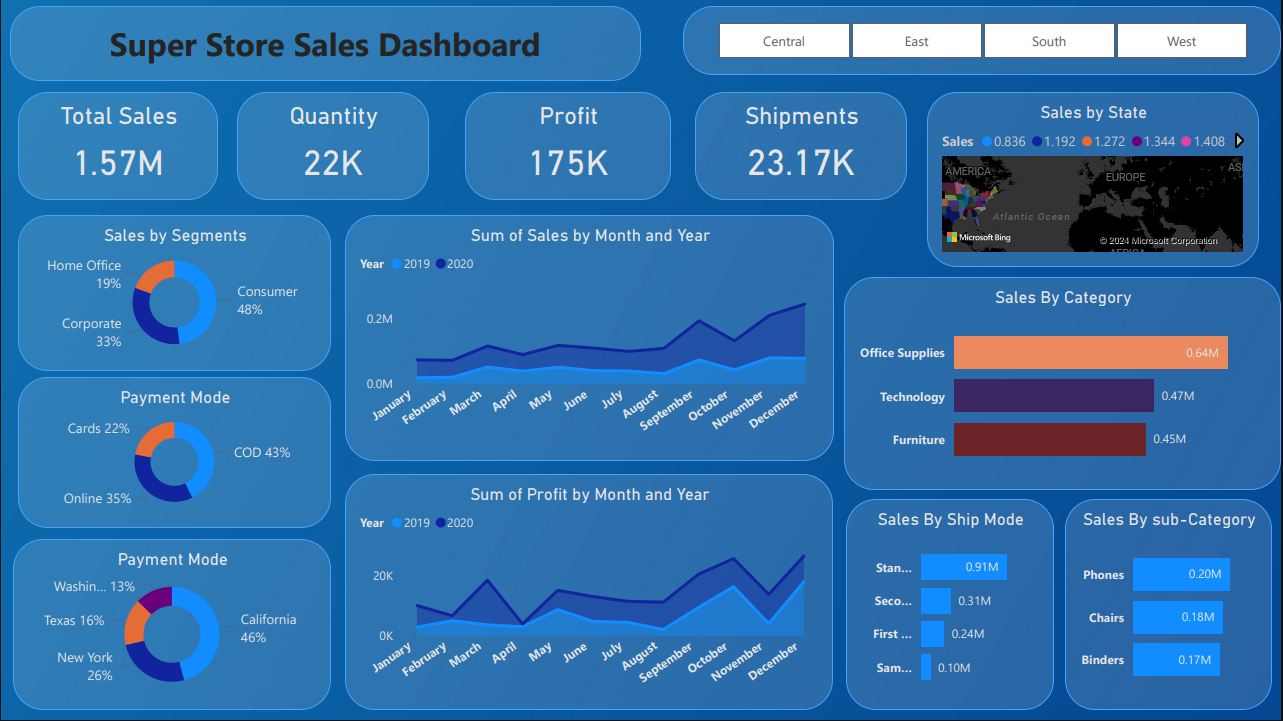

This screenshot's page, from the dashboard's own definition file:
{"tool":"powerbi","page":{"name":"Duplicates","canvas":[1280,720],"ordinal":0},"visuals":[{"type":"clusteredBarChart","title":"Sales By Category","fields":{"Category":["SuperStore_Sales_Dataset.Category"],"Y":["Sum(SuperStore_Sales_Dataset.Sales)"]},"box":[842.9,277.3,436.8,212.3],"z":0},{"type":"clusteredBarChart","title":"Sales By sub-Category","fields":{"Y":["Sum(SuperStore_Sales_Dataset.Sales)"],"Category":["SuperStore_Sales_Dataset.Sub-Category"]},"box":[1063.8,499.4,207.4,211],"z":1000},{"type":"clusteredBarChart","title":"Sales By Ship Mode","fields":{"Y":["Sum(SuperStore_Sales_Dataset.Sales)"],"Category":["SuperStore_Sales_Dataset.Ship Mode"]},"box":[845.4,499.4,207.4,211],"z":2000},{"type":"stackedAreaChart","fields":{"Y":["Sum(SuperStore_Sales_Dataset.Sales)"],"Category":["SuperStore_Sales_Dataset.Order Date.Variation.Date Hierarchy.Month","SuperStore_Sales_Dataset.Order Date.Variation.Date Hierarchy.Day"],"Series":["SuperStore_Sales_Dataset.Order Date.Variation.Date Hierarchy.Year"]},"box":[343.6,214.7,489.6,246.6],"z":3000},{"type":"stackedAreaChart","fields":{"Category":["SuperStore_Sales_Dataset.Order Date.Variation.Date Hierarchy.Month","SuperStore_Sales_Dataset.Order Date.Variation.Date Hierarchy.Day"],"Series":["SuperStore_Sales_Dataset.Order Date.Variation.Date Hierarchy.Year"],"Y":["Sum(SuperStore_Sales_Dataset.Profit)"]},"box":[343.6,473.6,488.3,236.8],"z":4000},{"type":"filledMap","title":"Sales by State","fields":{"Category":["SuperStore_Sales_Dataset.State"],"Series":["SuperStore_Sales_Dataset.Sales"]},"box":[926.4,92,331.3,175.5],"z":5000},{"type":"donutChart","title":"Sales by Segments","fields":{"Category":["SuperStore_Sales_Dataset.Segment"],"Y":["Sum(SuperStore_Sales_Dataset.Sales)"]},"box":[17.2,214.7,312.9,155.8],"z":5001},{"type":"donutChart","title":"Payment Mode","fields":{"Category":["SuperStore_Sales_Dataset.Payment Mode"],"Y":["Sum(SuperStore_Sales_Dataset.Sales)"]},"box":[17.2,376.7,312.9,150.9],"z":5002},{"type":"slicer","fields":{"Values":["SuperStore_Sales_Dataset.Region"]},"box":[682.2,6.1,597.5,68.7],"z":5003},{"type":"textbox","box":[8.6,6.1,631.9,74.8],"z":5004},{"type":"card","title":"Total Sales","fields":{"Values":["Sum(SuperStore_Sales_Dataset.Sales)"]},"box":[17.2,92,200,108],"z":5005},{"type":"card","title":"Quantity","fields":{"Values":["Sum(SuperStore_Sales_Dataset.Quantity)"]},"box":[235.6,92,192.6,108],"z":5006},{"type":"card","title":"Profit","fields":{"Values":["Sum(SuperStore_Sales_Dataset.Profit)"]},"box":[463.8,92,206.1,108],"z":5007},{"type":"card","title":"Shipments","fields":{"Values":["Sum(SuperStore_Sales_Dataset.AvgDelivery)"]},"box":[694.5,92,211,108],"z":5008},{"type":"donutChart","title":"Payment Mode","fields":{"Y":["Sum(SuperStore_Sales_Dataset.Sales)"],"Category":["SuperStore_Sales_Dataset.State"]},"box":[12.3,538.7,317.8,171.8],"z":5009}]}

Visuals, with their boxes in screenshot pixels (x1, y1, x2, y2), scaled from the page's 1280x720 canvas onto the 1283x721 screenshot:
"Sales By Category" clusteredBarChart: 845 278 1282 490
"Sales By sub-Category" clusteredBarChart: 1066 500 1274 711
"Sales By Ship Mode" clusteredBarChart: 847 500 1055 711
stackedAreaChart - Sum(SuperStore_Sales_Dataset.Sales) x SuperStore_Sales_Dataset.Order Date.Variation.Date Hierarchy.Month: 344 215 835 462
stackedAreaChart - SuperStore_Sales_Dataset.Order Date.Variation.Date Hierarchy.Month x SuperStore_Sales_Dataset.Order Date.Variation.Date Hierarchy.Day: 344 474 834 711
"Sales by State" filledMap: 929 92 1261 268
"Sales by Segments" donutChart: 17 215 331 371
"Payment Mode" donutChart: 17 377 331 528
slicer - SuperStore_Sales_Dataset.Region: 684 6 1282 75
textbox: 9 6 642 81
"Total Sales" card: 17 92 218 200
"Quantity" card: 236 92 429 200
"Profit" card: 465 92 671 200
"Shipments" card: 696 92 908 200
"Payment Mode" donutChart: 12 539 331 711
